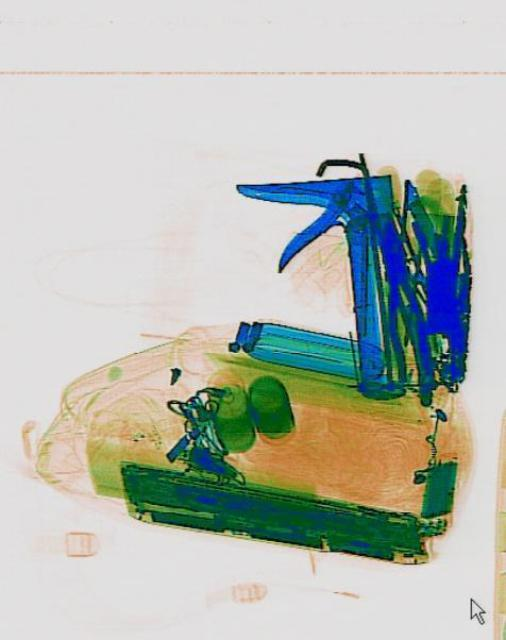Knife: (232, 170, 405, 392)
Pliers: (368, 212, 431, 384)
